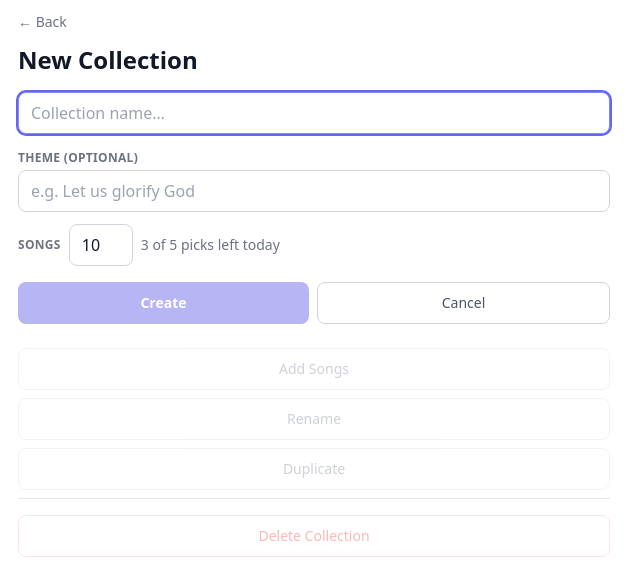
Test: NewCollectionCreator — theme picker › with a theme shows Create & pick songs and Create empty
This screenshot has width=629, height=574.
Expected: the text "3 of 5 picks left today" is shown, [141,235,280,255]
Type "Sunday" into the field with placeholder "Collection name…" at point(314, 113), box [18,92,610,134]
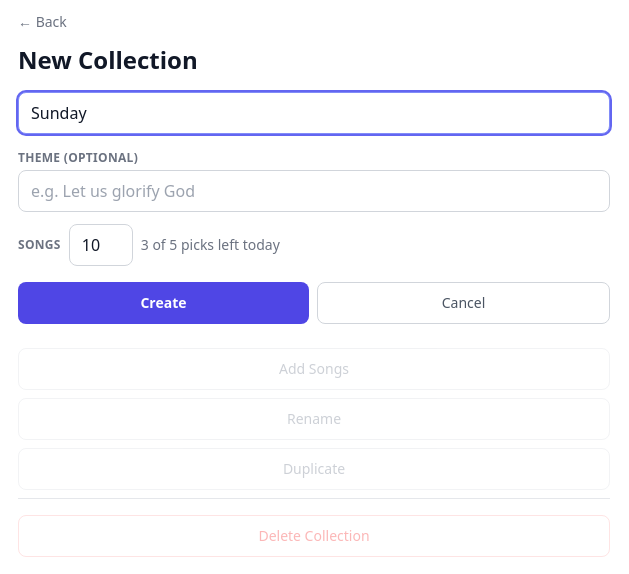
Type "Let us glorify God" into the field labelled "Theme (optional)" at point(314, 191), box [18,170,610,212]
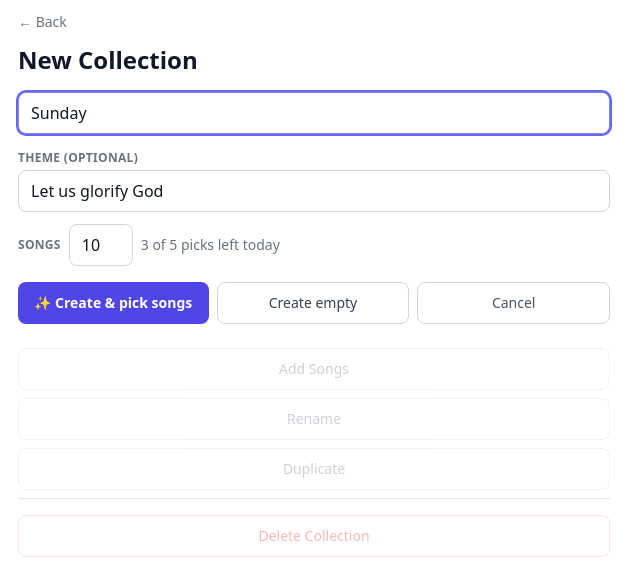
Expected: the button "✨ Create & pick songs" is enabled, [18,282,209,324]
Expected: the button "Create empty" is enabled, [217,282,409,324]
